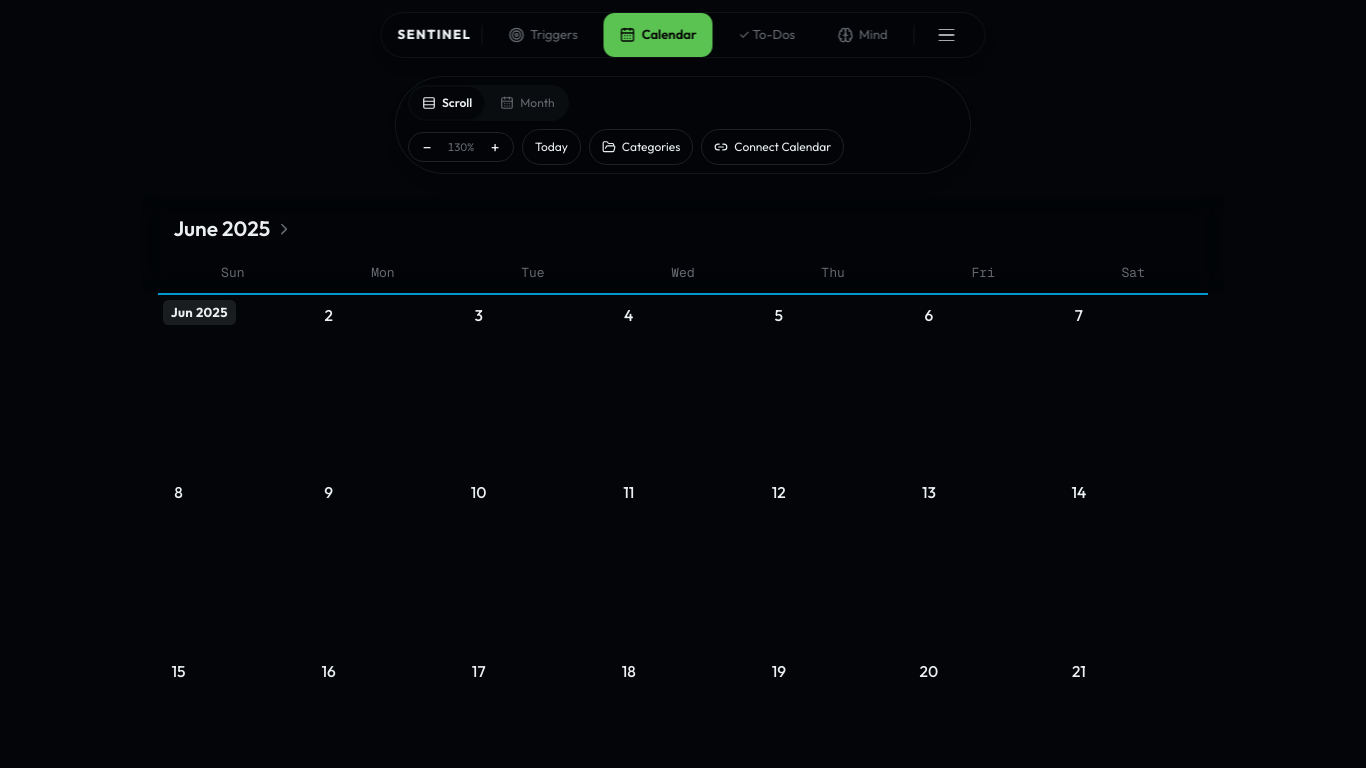
Test: CalendarClient view toggle › opens the day-detail modal when a day is clicked in the scroll view
Note: First in-month (clickable) day cell in the scroll view.
Click the button "Jun 2025": (233, 382) [158,293,308,472]
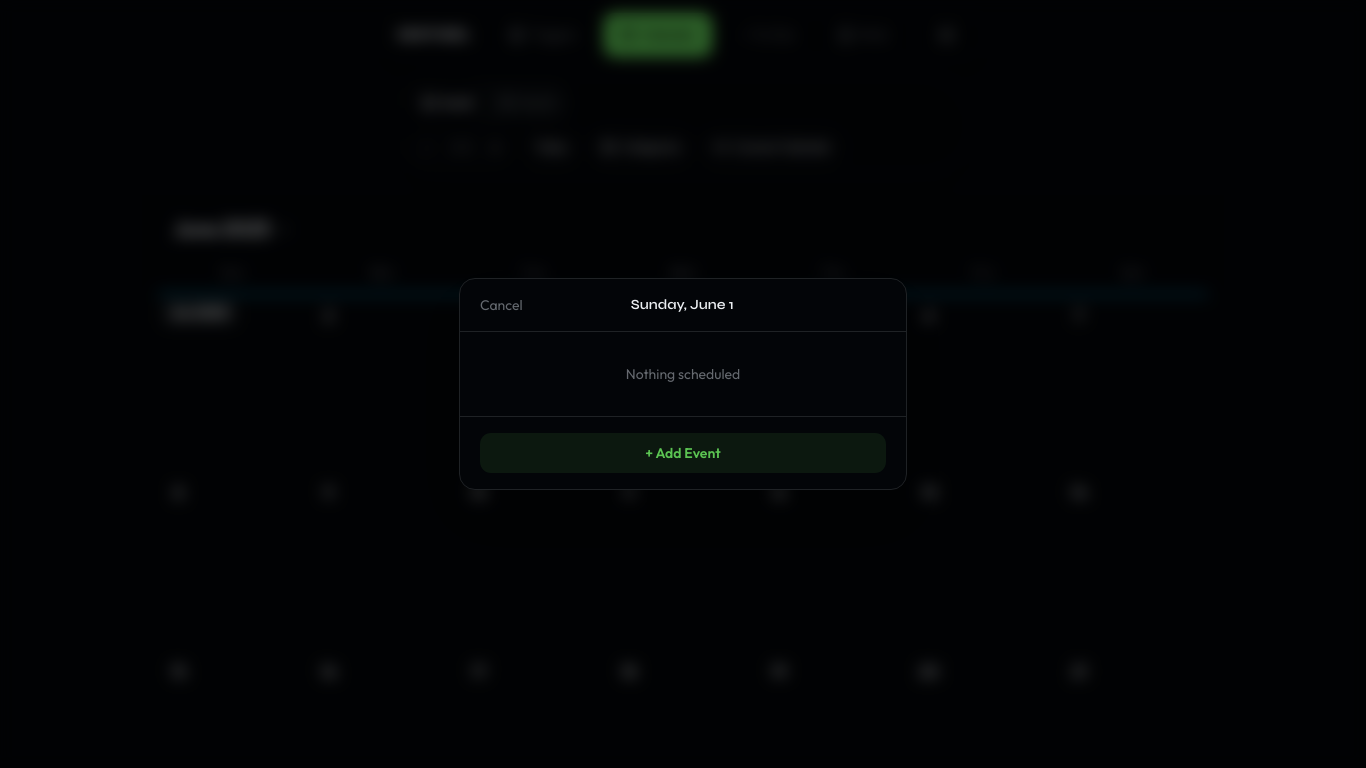
expect the element with test id "add-event-editor-overlay" is shown: met
